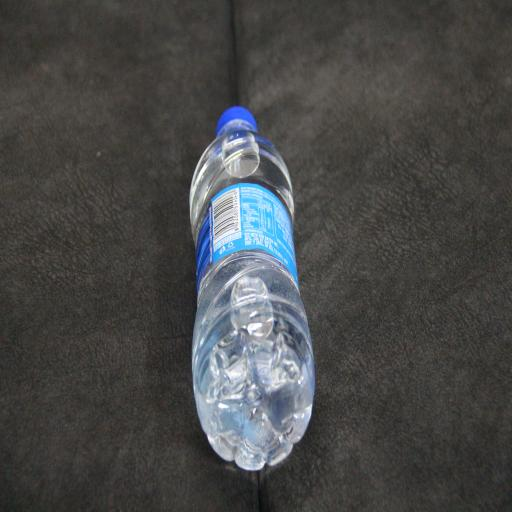Aquafina: (190, 106, 315, 480)
